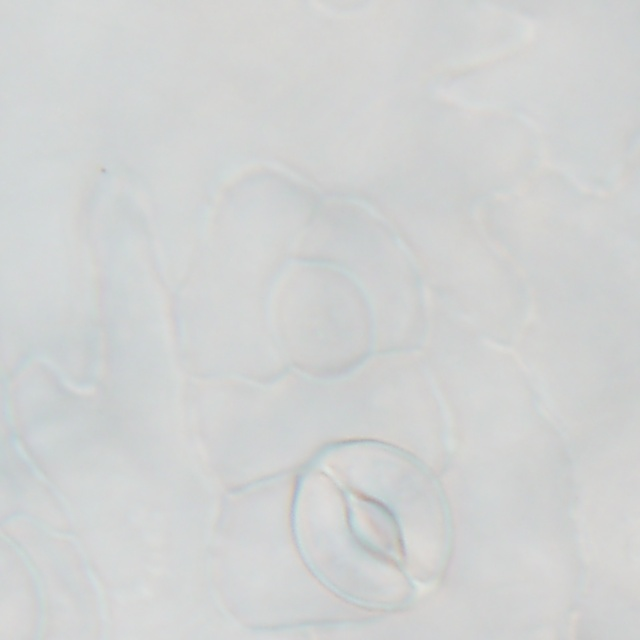center: (345, 489, 404, 566), (0, 582, 46, 588)
stomata-huw1: (291, 439, 452, 610), (1, 531, 42, 639)
